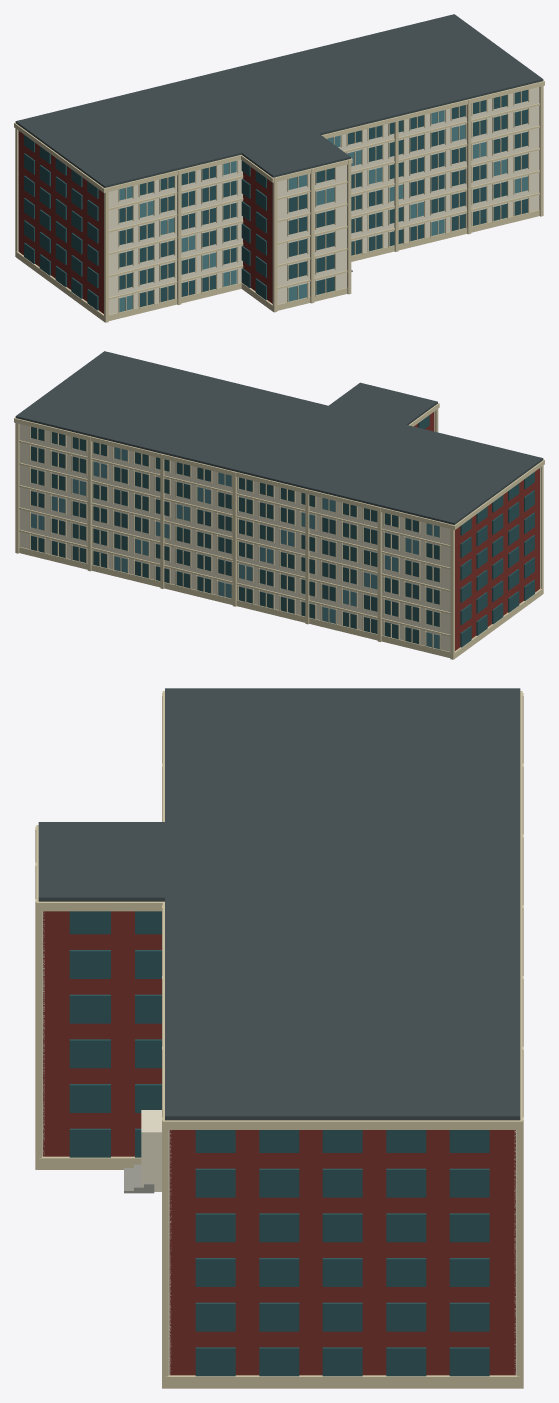
3 renders of one model, top to bottom at view 1: azimuth 30°, elevation 25°; view 2: azimuth 150°, elevation 25°; view 3: azimuth 270°, elevation 25°, orthographic. The views are drawn at different scales.
Parts seen in each view (by area): view 1: MainBlock_Roof, MainBlock_Light_Fascia, MainBlock_WindowGlass, MainBlock_WindowFrames, MainBlock_Structure, MainBlock_SideWindows, CentralStair_Light_Fascia, MainBlock_FloorBands, CentralStair_Roof, MainBlock_Pilasters, CentralStair_WindowGlass, MainBlock_Plinth (+8 smaller); view 2: MainBlock_Roof, MainBlock_Light_Fascia, MainBlock_WindowGlass, MainBlock_WindowFrames, MainBlock_Structure, MainBlock_FloorBands, MainBlock_SideWindows, MainBlock_Pilasters, CentralStair_Roof, MainBlock_Plinth, MainBlock_Cornice; view 3: MainBlock_Roof, MainBlock_Structure, MainBlock_SideWindows, CentralStair_Structure, CentralStair_SideWindows, CentralStair_Roof, MainBlock_Cornice, MainBlock_Pilasters, MainBlock_Plinth, CentralStair_Pilasters, CentralStair_Cornice, CentralStair_Plinth (+2 smaller).
Part boxes in pixels (bbox=[...]): MainBlock_Roof: bbox=[15, 14, 543, 187]; MainBlock_Light_Fascia: bbox=[18, 87, 539, 314]; MainBlock_WindowGlass: bbox=[119, 90, 527, 312]; MainBlock_WindowFrames: bbox=[118, 89, 529, 313]; MainBlock_Structure: bbox=[18, 131, 103, 313]; MainBlock_SideWindows: bbox=[24, 135, 98, 310]; CentralStair_Light_Fascia: bbox=[277, 165, 346, 304]; MainBlock_FloorBands: bbox=[108, 103, 539, 299]; CentralStair_Roof: bbox=[223, 114, 350, 177]; MainBlock_Pilasters: bbox=[15, 82, 543, 322]; CentralStair_WindowGlass: bbox=[288, 168, 334, 301]; MainBlock_Plinth: bbox=[16, 210, 539, 321]; MainBlock_Roof: bbox=[15, 351, 543, 524]; MainBlock_Light_Fascia: bbox=[19, 424, 540, 651]; MainBlock_WindowGlass: bbox=[31, 427, 439, 649]; MainBlock_WindowFrames: bbox=[29, 426, 440, 650]; MainBlock_Structure: bbox=[455, 468, 539, 650]; MainBlock_FloorBands: bbox=[19, 440, 450, 636]; MainBlock_SideWindows: bbox=[460, 472, 534, 647]; MainBlock_Pilasters: bbox=[15, 419, 543, 659]; CentralStair_Roof: bbox=[303, 382, 437, 443]; MainBlock_Plinth: bbox=[19, 547, 542, 658]; MainBlock_Cornice: bbox=[14, 417, 544, 529]; MainBlock_Roof: bbox=[165, 688, 520, 1120]; MainBlock_Structure: bbox=[169, 1130, 515, 1375]; MainBlock_SideWindows: bbox=[195, 1130, 489, 1376]; CentralStair_Structure: bbox=[43, 911, 161, 1156]; CentralStair_SideWindows: bbox=[69, 911, 161, 1157]; CentralStair_Roof: bbox=[38, 822, 271, 901]; MainBlock_Cornice: bbox=[162, 691, 522, 1129]; MainBlock_Pilasters: bbox=[162, 693, 523, 1388]; MainBlock_Plinth: bbox=[165, 1375, 519, 1388]; CentralStair_Pilasters: bbox=[35, 826, 41, 1169]; CentralStair_Cornice: bbox=[36, 825, 164, 911]; CentralStair_Plinth: bbox=[39, 1156, 141, 1169].
Bounding box in the file's own units: 70.22 × 20.73 × 33.65.
